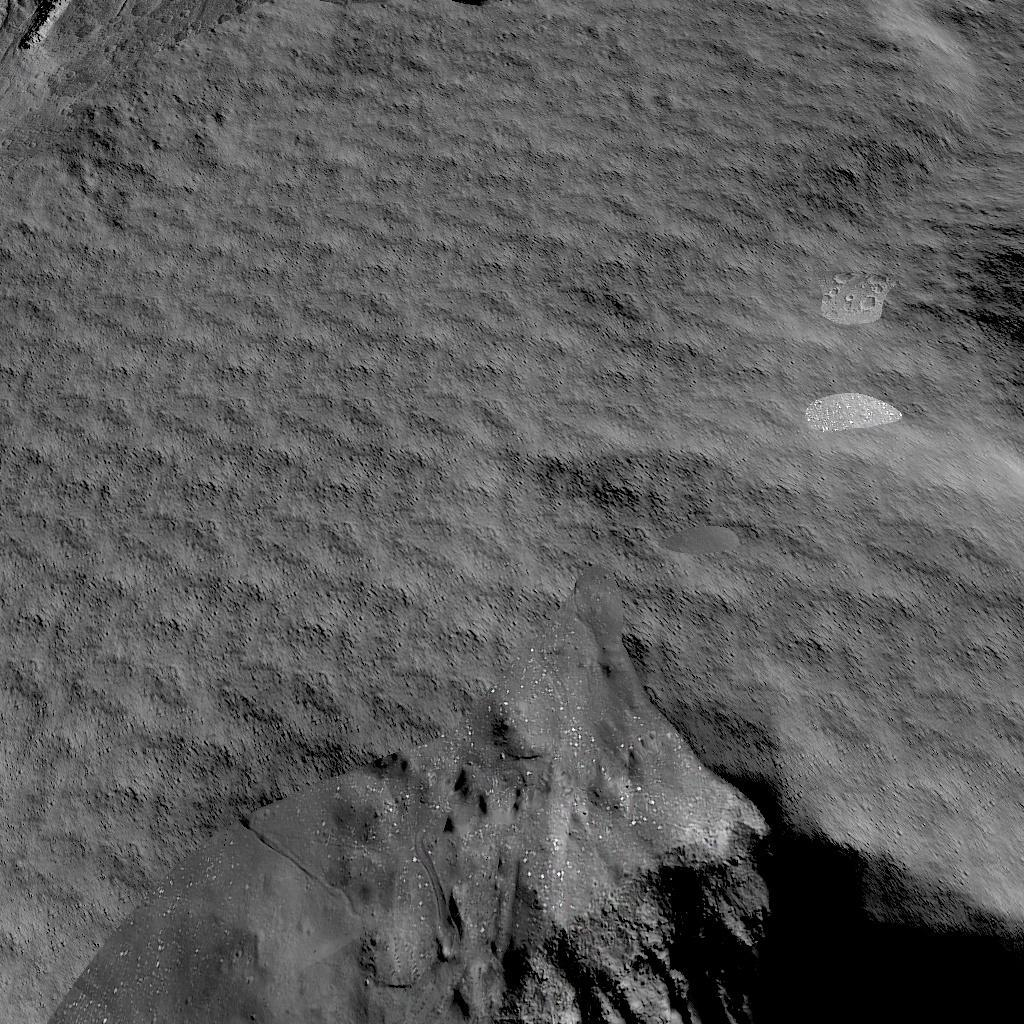Boulders: (0, 0, 88, 65)
Crater: (46, 755, 1024, 1024)
Plan surface: (0, 282, 1024, 742), (104, 0, 1024, 268)
